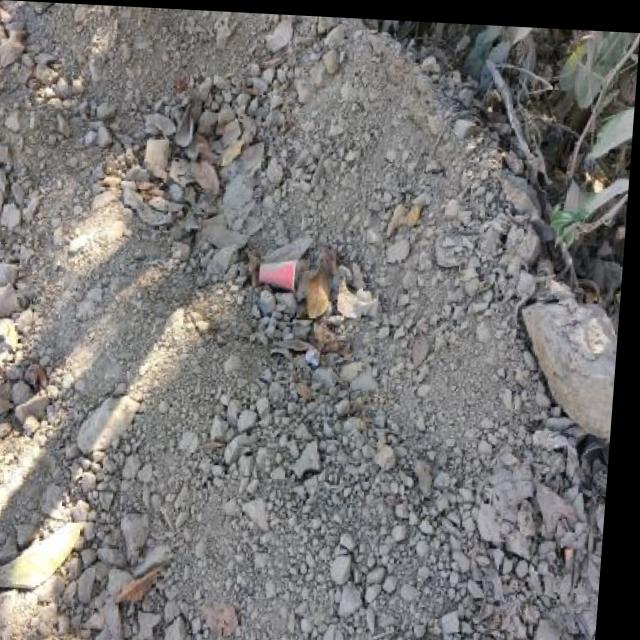cardboard: (257, 256, 302, 295)
